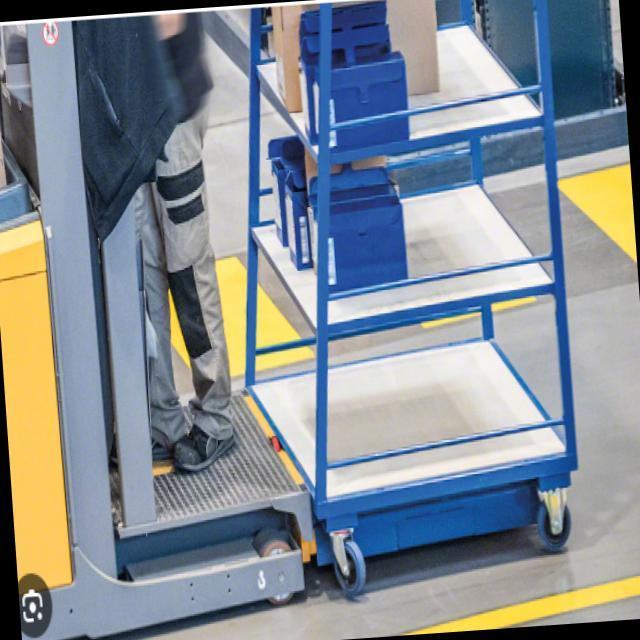shoes: (103, 384, 244, 481)
